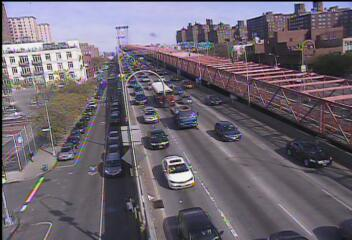neg: (270, 118, 313, 176), (198, 3, 234, 50), (20, 56, 51, 98), (28, 114, 58, 154), (67, 15, 94, 51), (132, 33, 156, 65), (70, 154, 94, 186), (278, 44, 300, 74), (119, 132, 141, 161), (193, 174, 215, 203), (174, 116, 194, 142), (202, 87, 220, 110), (97, 84, 113, 105), (124, 185, 139, 206)
